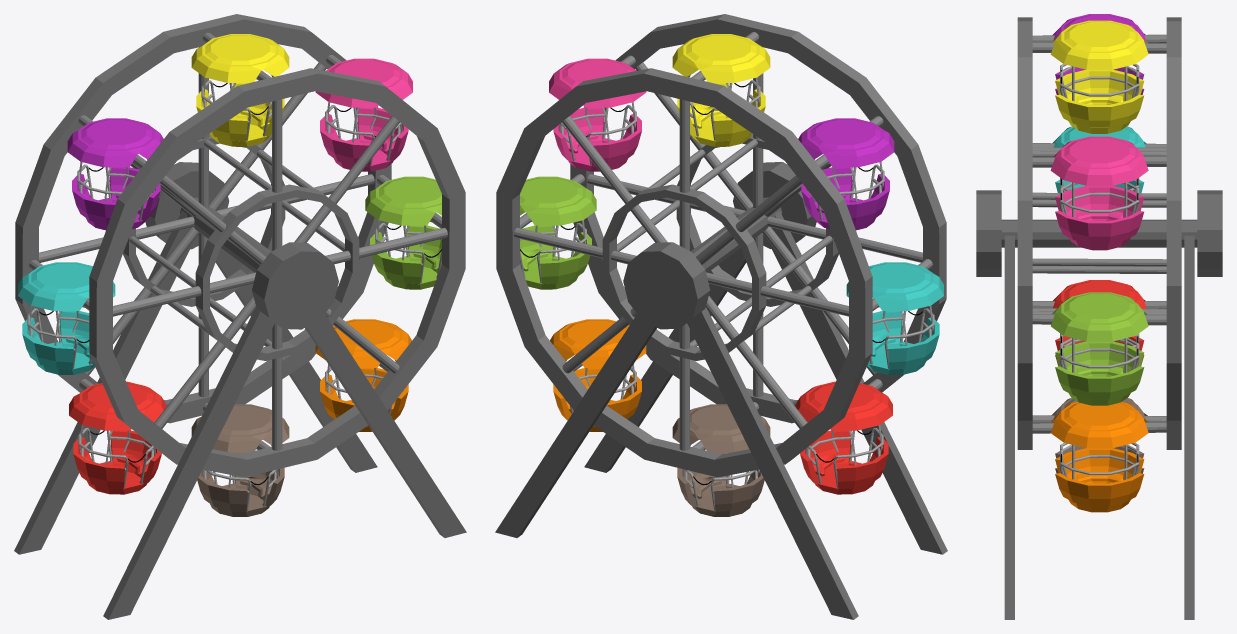
The model's file is Ferris_wheel_01.fbx.
The picture shows the model from 3 angles, left to right: view 1: azimuth 30°, elevation 25°; view 2: azimuth 150°, elevation 25°; view 3: azimuth 270°, elevation 25°; orthographic projection.
Parts seen in each view (by area): view 1: Ferris_wheel_01; view 2: Ferris_wheel_01; view 3: Ferris_wheel_01.
Boxes of the visible parts, left/top/right/bottom form: Ferris_wheel_01: left=14, top=14, right=466, bottom=619; Ferris_wheel_01: left=495, top=14, right=947, bottom=619; Ferris_wheel_01: left=976, top=14, right=1222, bottom=619.
Size of the model in its own units: 1103 by 1205 by 540.
